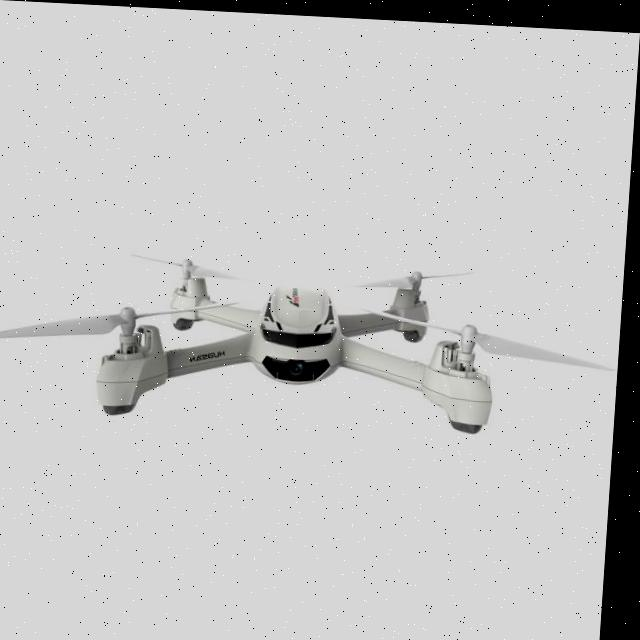drone: (1, 241, 560, 451)
